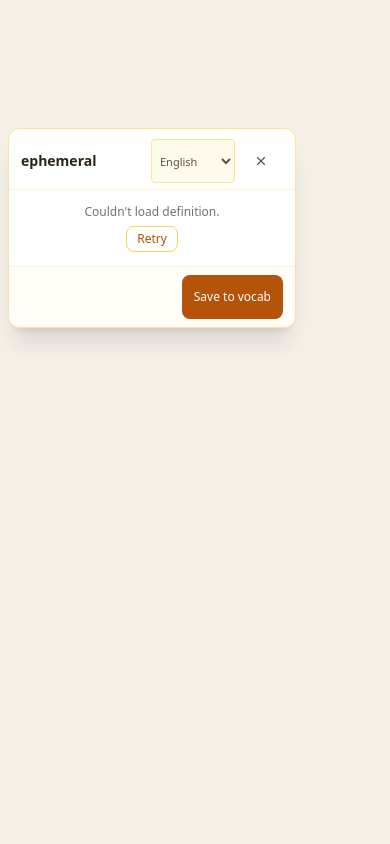
Test case: VocabWordTooltip — error state (issue #2419) › retries fetch when Retry is clicked
Click the button "Retry" at (152, 239), box [126,226,178,252]
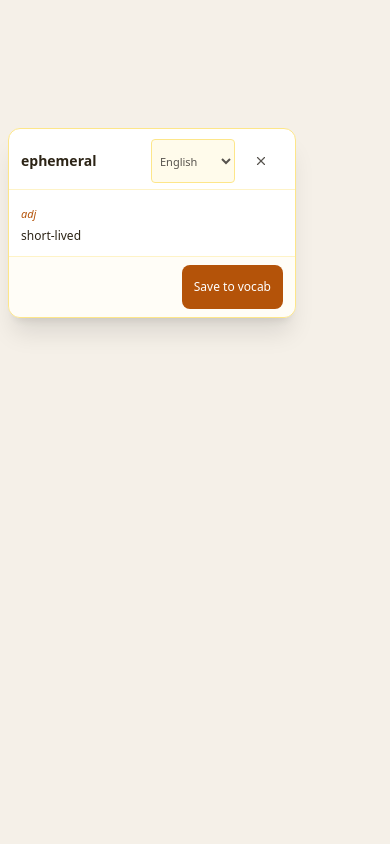
Expected: the text "short-lived" is shown, [21,227,81,244]
